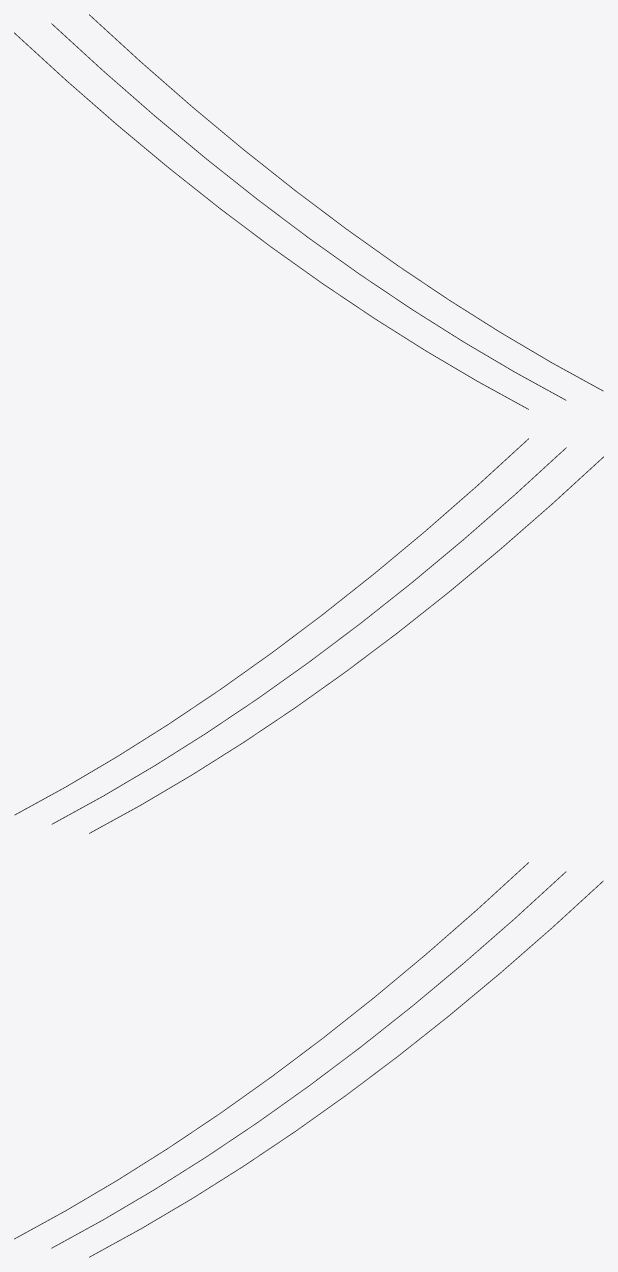
File: UT_PowerLine_Span25m.obj
3 renders of one model, top to bottom at view 1: azimuth 30°, elevation 25°; view 2: azimuth 150°, elevation 25°; view 3: azimuth 330°, elevation 25°, orthographic.
Parts seen in each view (by area): view 1: UT_PowerLine_Span25m; view 2: UT_PowerLine_Span25m; view 3: UT_PowerLine_Span25m.
Part boxes in pixels (x1,y1,x2,y2): UT_PowerLine_Span25m: [14, 14, 603, 409]; UT_PowerLine_Span25m: [14, 438, 603, 833]; UT_PowerLine_Span25m: [14, 862, 603, 1257].
Size of the model in its own units: 2.12 by 0.7207 by 25.
1 material, 1 textured.
